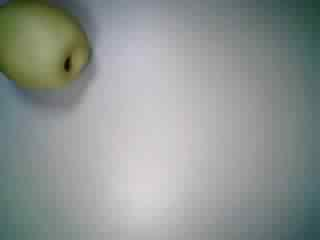pear: (1, 1, 94, 98)
